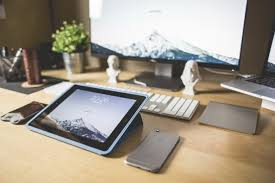mobil: (123, 126, 180, 174)
